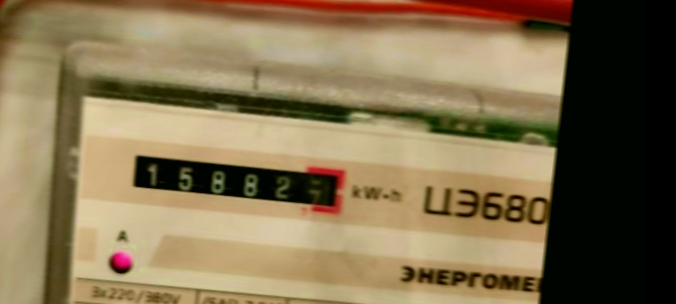1: (142, 164, 159, 190)
2: (272, 177, 289, 202)
5: (174, 167, 193, 194)
7: (304, 188, 320, 209)
8: (207, 171, 225, 199), (240, 174, 257, 201)
screen: (114, 140, 353, 229)
